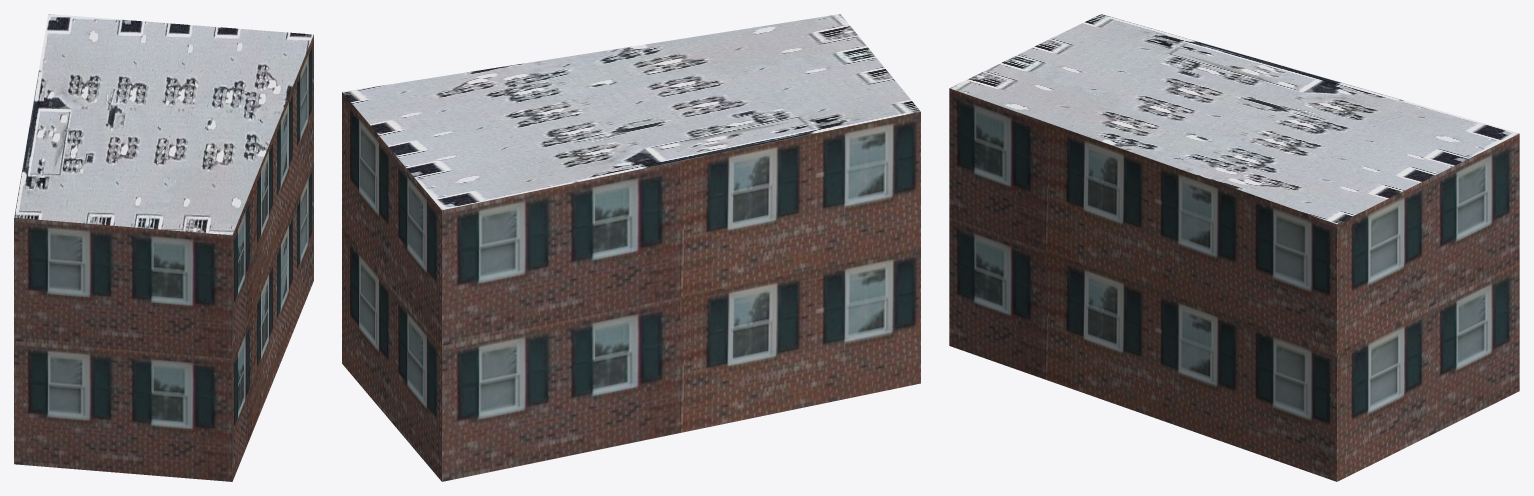
File: ResTex__4178.fbx
3 renders of one model, left to right at view 1: azimuth 30°, elevation 25°; view 2: azimuth 150°, elevation 25°; view 3: azimuth 270°, elevation 25°, orthographic. The views are drawn at different scales.
Parts seen in each view (by area): view 1: CityEngineMaterial_14_m, CityEngineMaterial_8_m; view 2: CityEngineMaterial_14_m, CityEngineMaterial_8_m; view 3: CityEngineMaterial_14_m, CityEngineMaterial_8_m.
Boxes of the visible parts, box(x1,y1,x2,y2) form: CityEngineMaterial_14_m: box(14, 35, 313, 481); CityEngineMaterial_8_m: box(14, 14, 313, 235); CityEngineMaterial_14_m: box(342, 92, 920, 481); CityEngineMaterial_8_m: box(342, 14, 920, 210); CityEngineMaterial_14_m: box(949, 88, 1519, 481); CityEngineMaterial_8_m: box(950, 14, 1519, 224).
Size of the model in its own units: 10.5 by 6 by 12.04.
2 materials, 2 textured.
